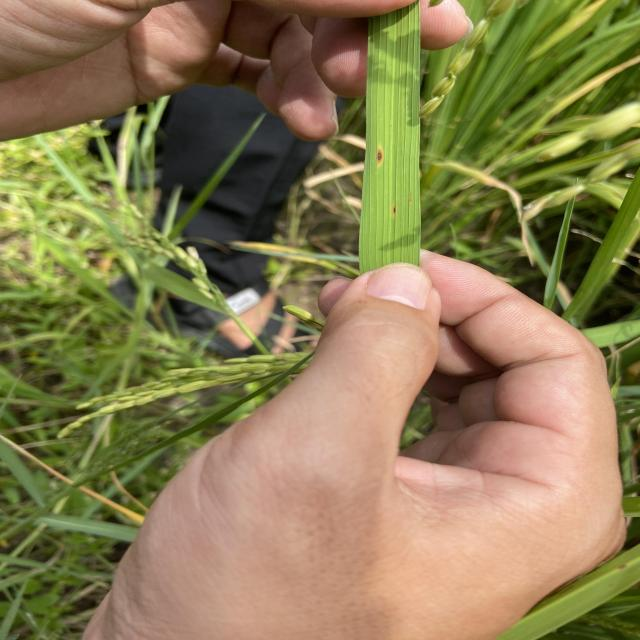Dao on: (376, 147, 384, 167)
